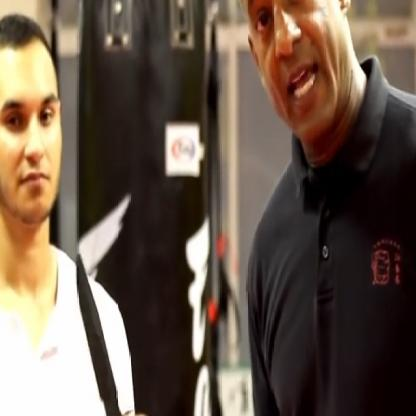knife: (66, 232, 157, 415)
